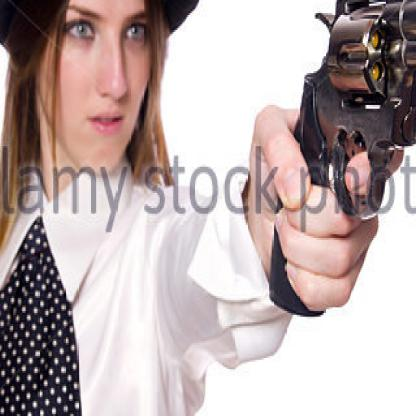gun: (256, 0, 415, 334)
